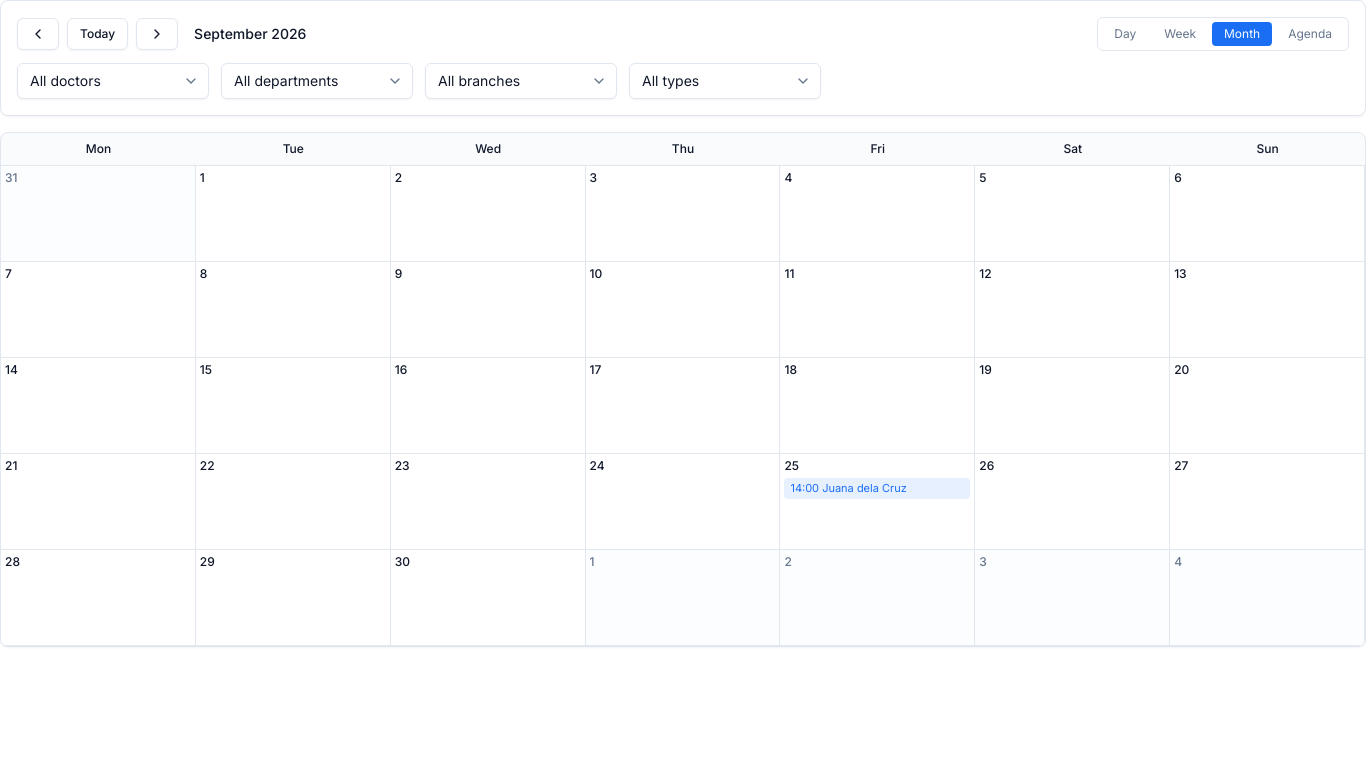
Scenario: AppointmentCalendar › Edit Appointment from the calendar-opened dialog reuses the same reschedule flow
Click the button "14:00 Juana dela Cruz": click(877, 488) x1=784 y1=478 x2=970 y2=498
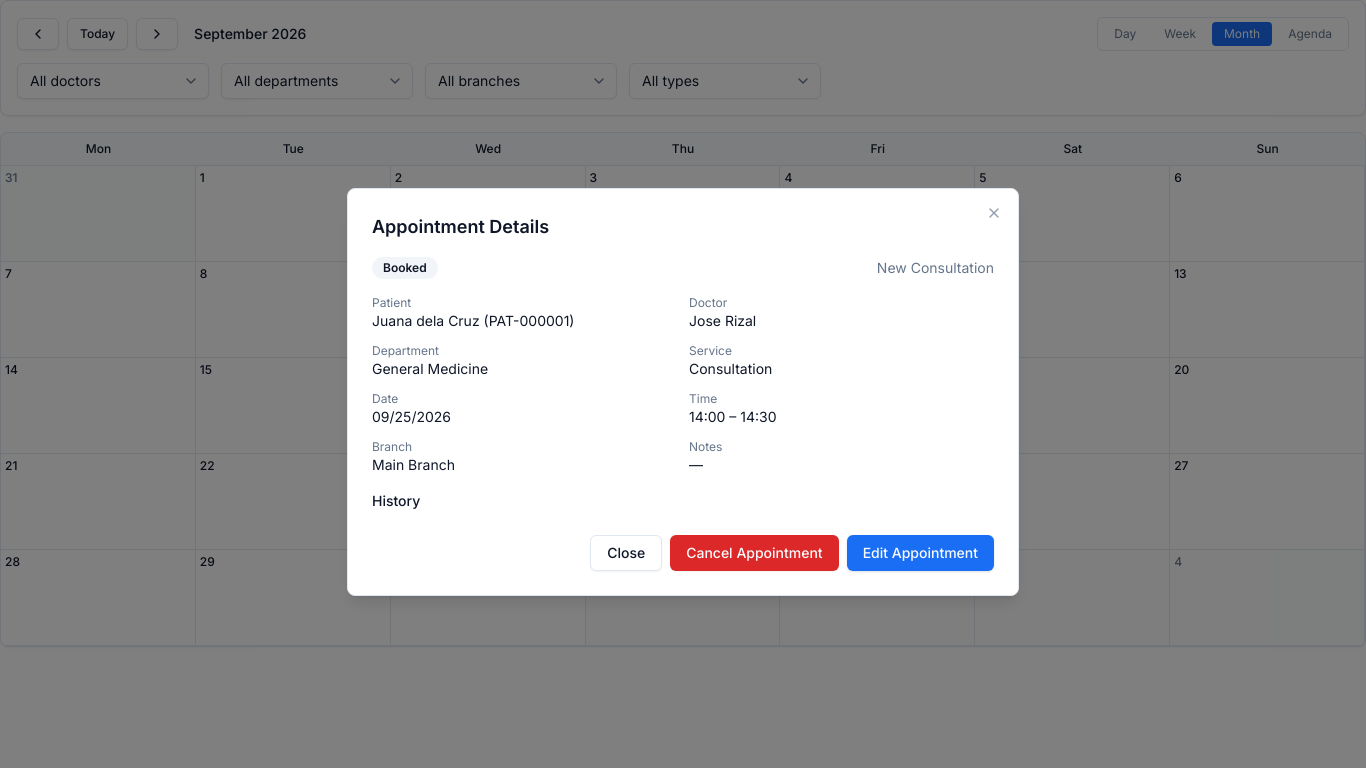
Click the button "Edit Appointment": click(920, 553) x1=847 y1=535 x2=994 y2=571
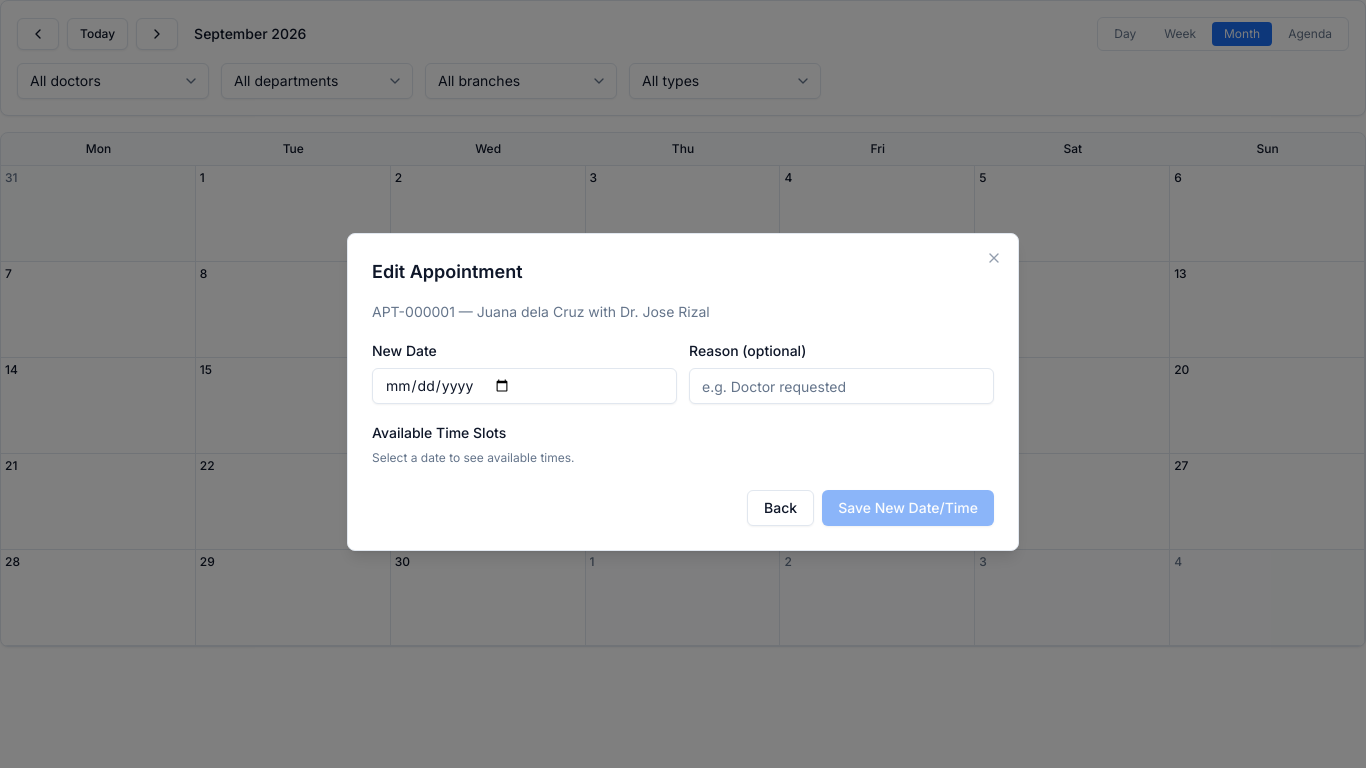
Expected: the heading "Edit Appointment" is shown, x1=372 y1=261 x2=523 y2=282
